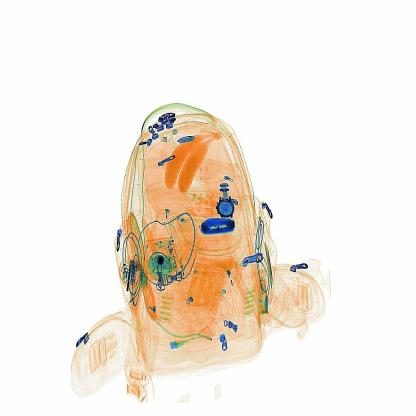scissors: (190, 210, 243, 243)
